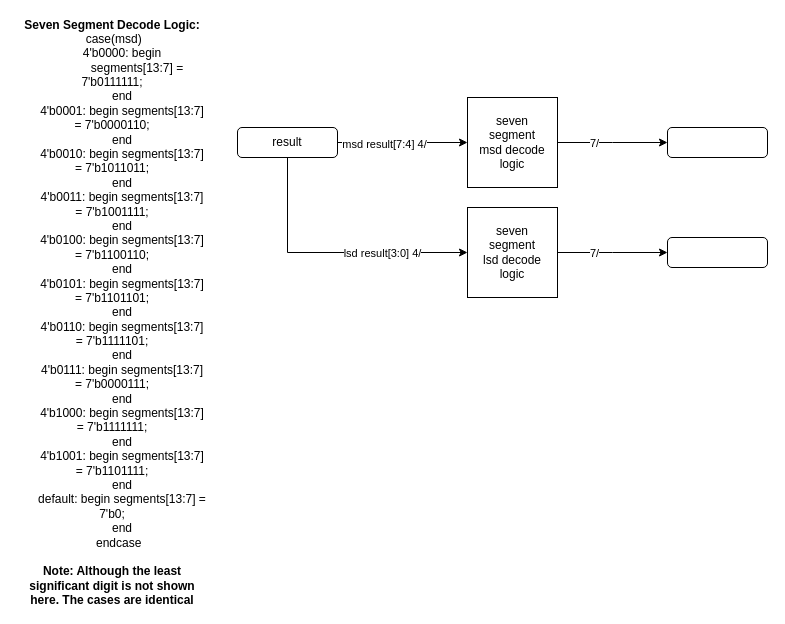
The diagram is 785 pixels wide and 624 high, and some of its shapes have lost their labels. Here are the shapes that lost their labels. From the top down, the centre of each, then its label:
At point 717,142: "segments[13:7]".
At point 717,252: "segments[6:0]".
